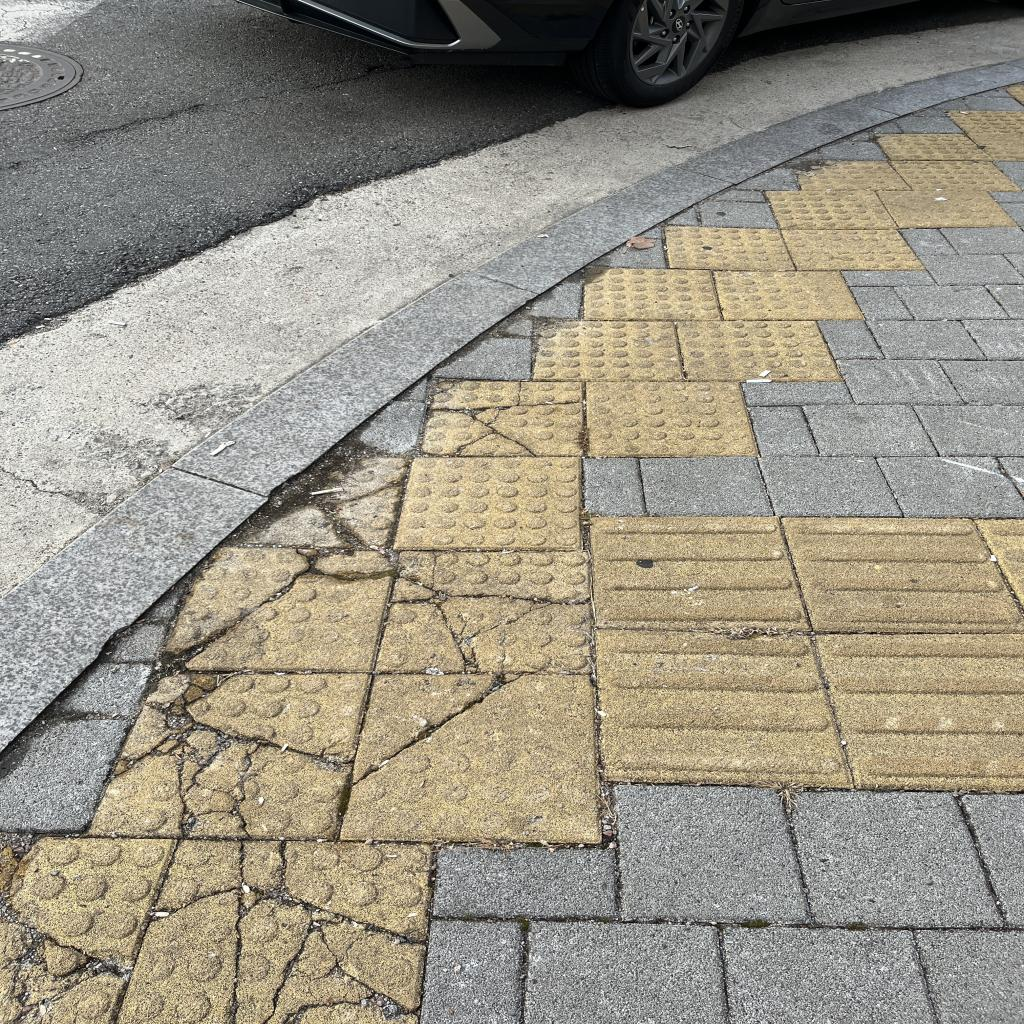Stop block broken: (91, 672, 370, 838), (341, 676, 600, 841), (157, 549, 395, 675), (376, 551, 591, 671), (418, 377, 582, 455)
Stop block normal: (397, 459, 580, 548)
Straight block normal: (592, 630, 854, 784)
